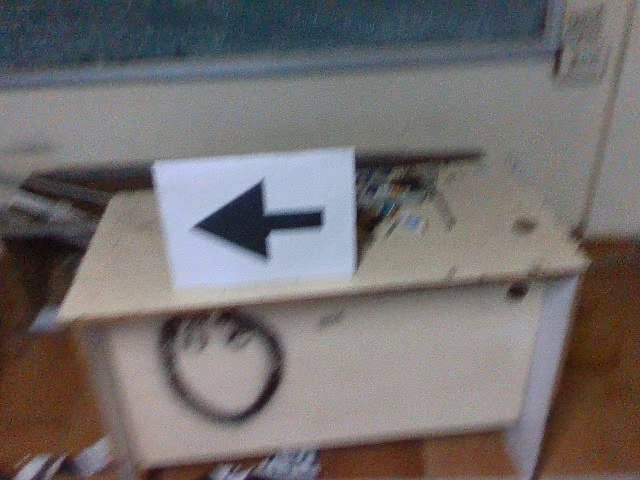Left: (185, 171, 327, 269)
